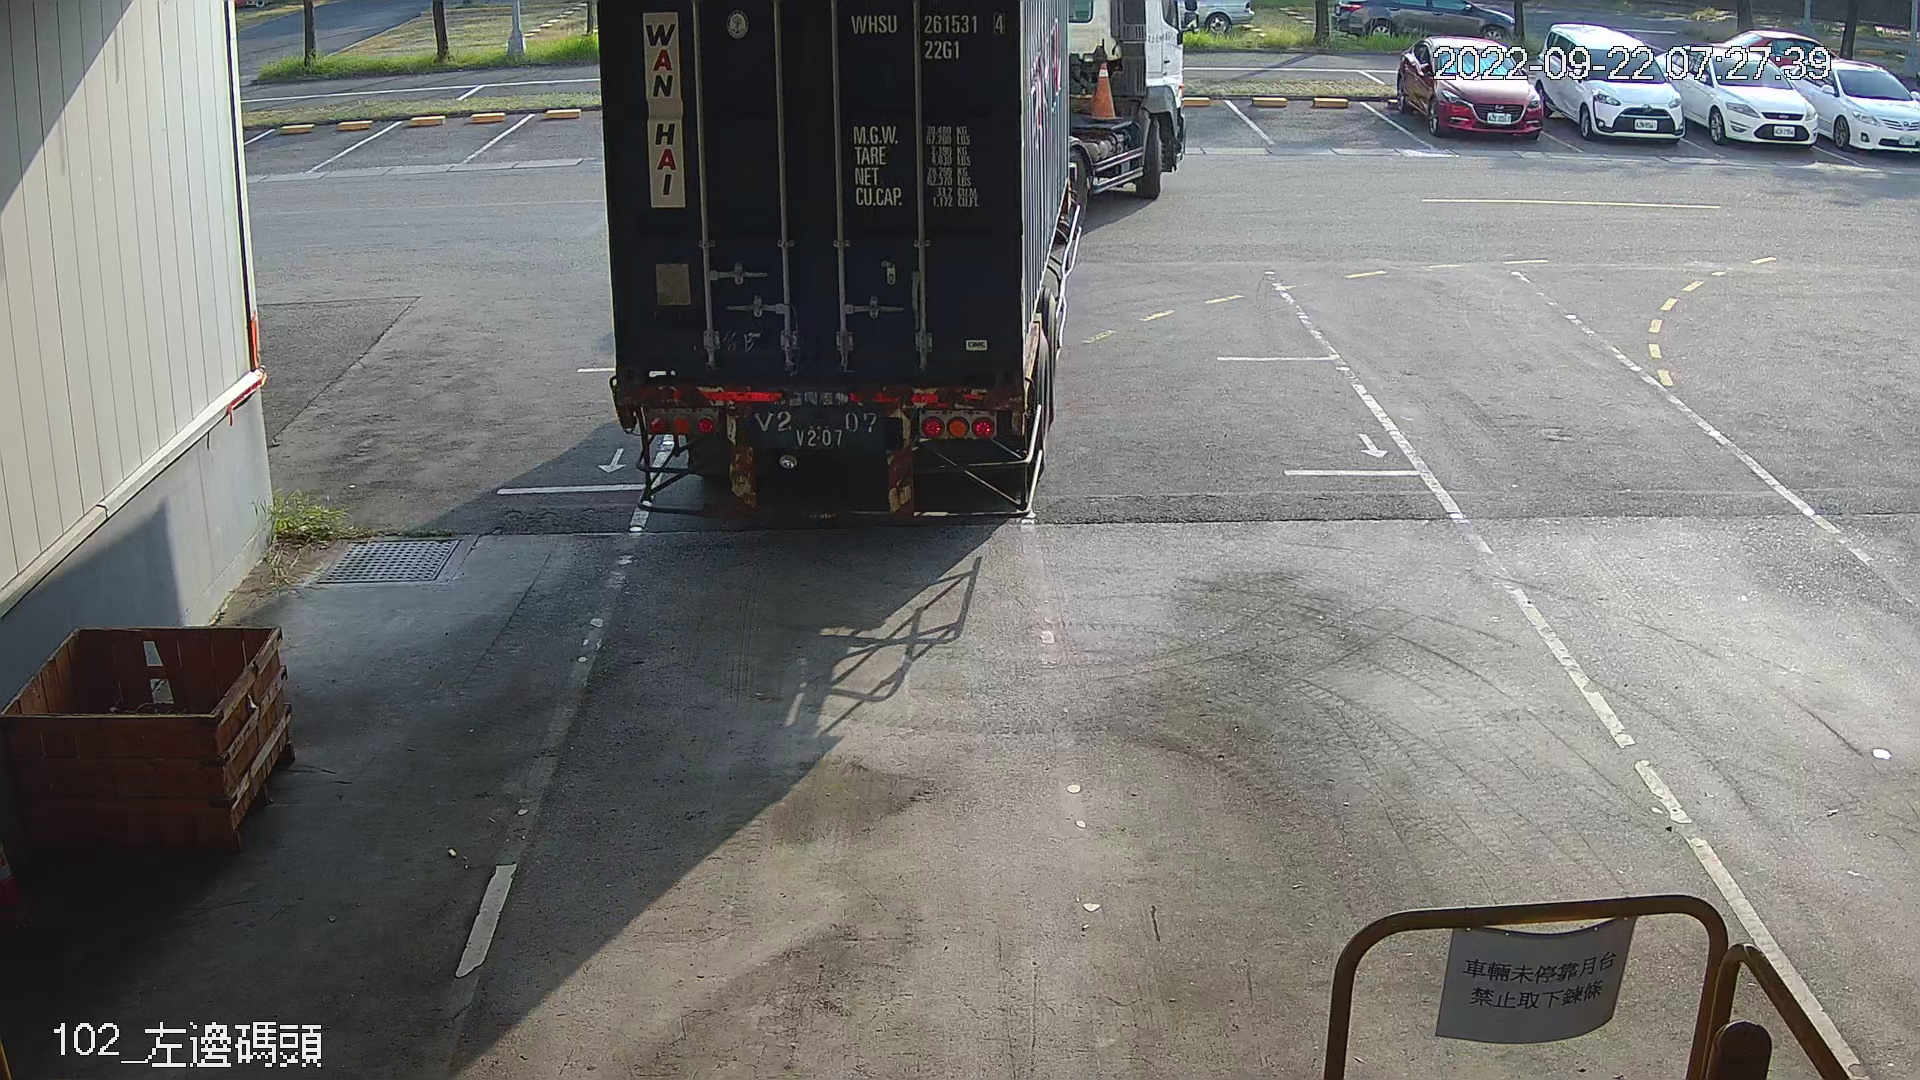container: (844, 7, 1011, 69)
